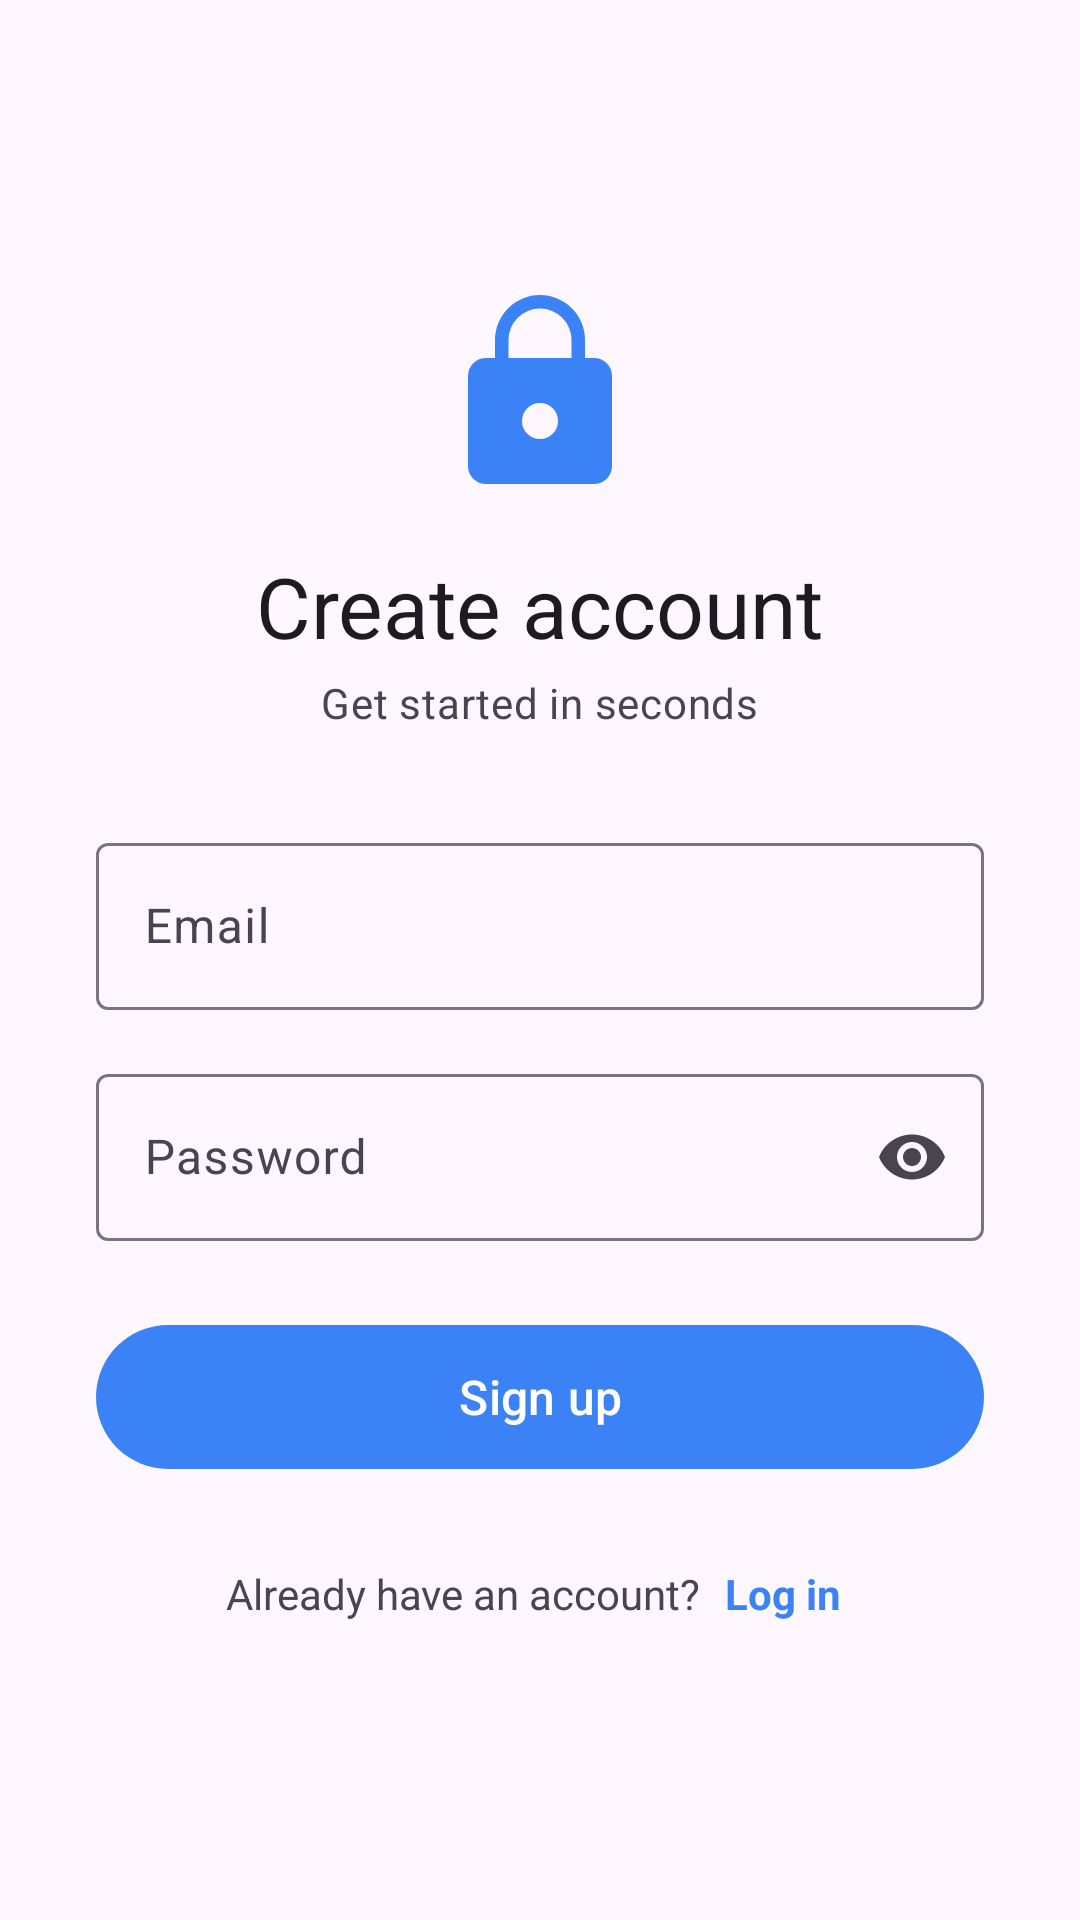

Where to tap for icons on this 1080x1920 app screen, as (x,y):
lock: (540,389)
